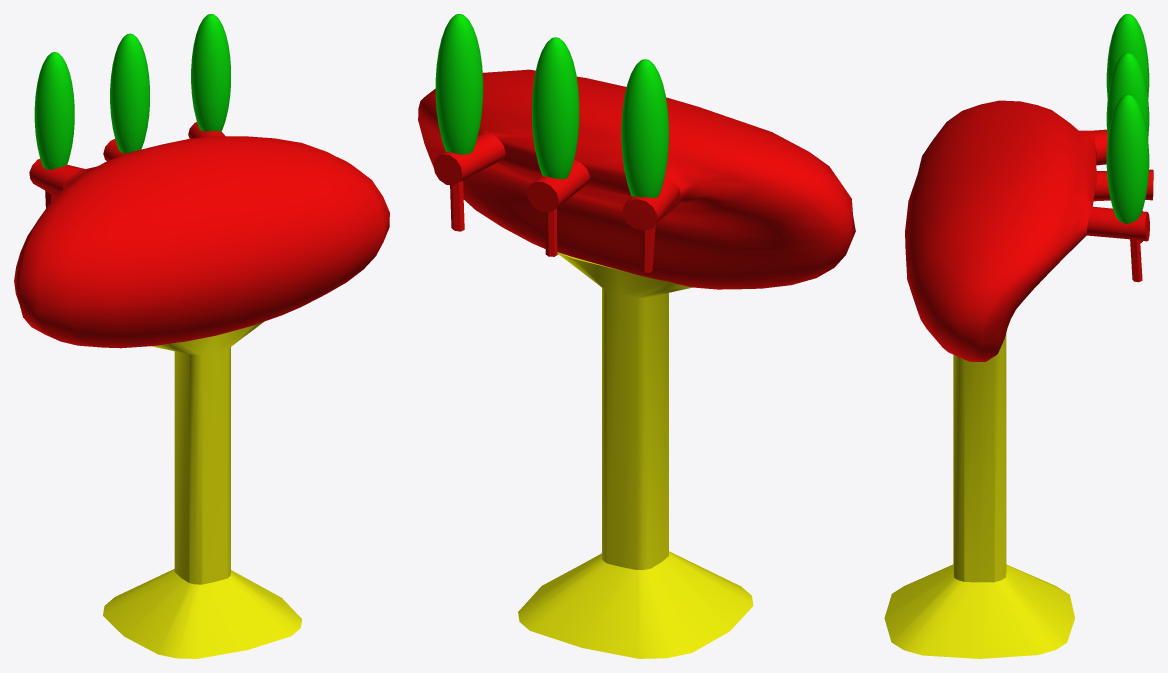
Rendered from Tireuse_2.fbx.
3 views of the same model, side by side, from view 1: azimuth 30°, elevation 25°; view 2: azimuth 150°, elevation 25°; view 3: azimuth 270°, elevation 25° (orthographic). The views are drawn at different scales.
Parts seen in each view (by area): view 1: pSphere1, pCylinder2, pSphere8, pSphere3, pSphere9; view 2: pSphere1, pCylinder2, pSphere8, pSphere3, pSphere9; view 3: pSphere1, pCylinder2, pSphere3, pSphere8, pSphere9.
Part boxes in pixels (x1,y1,x2,y2): pSphere1: [14, 122, 389, 348]; pCylinder2: [103, 321, 301, 658]; pSphere8: [110, 33, 149, 153]; pSphere3: [191, 14, 230, 131]; pSphere9: [34, 52, 74, 169]; pSphere1: [418, 69, 855, 289]; pCylinder2: [518, 252, 753, 658]; pSphere8: [532, 37, 579, 179]; pSphere3: [435, 14, 483, 154]; pSphere9: [621, 59, 668, 197]; pSphere1: [905, 100, 1153, 361]; pCylinder2: [884, 334, 1074, 658]; pSphere3: [1106, 94, 1149, 223]; pSphere8: [1106, 53, 1149, 139]; pSphere9: [1106, 14, 1149, 97].
Size of the model in its own units: 105 by 147 by 63.73.
